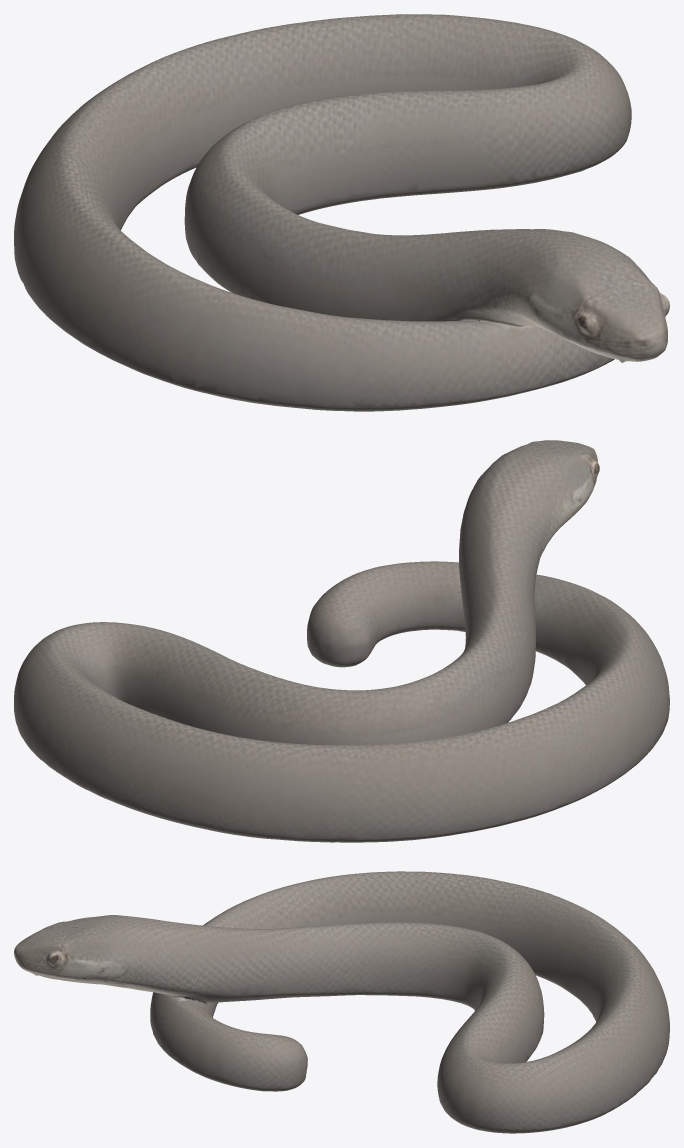
The model's file is snake_slithering.glb.
3 views of the same model, one above another, from view 1: azimuth 30°, elevation 25°; view 2: azimuth 150°, elevation 25°; view 3: azimuth 270°, elevation 25° (orthographic). The views are drawn at different scales.
Parts seen in each view (by area): view 1: model; view 2: model; view 3: model.
Part boxes in pixels (x1,y1,x2,y2): model: (14,14,669,411); model: (14,440,669,842); model: (14,871,669,1133).
Size of the model in its own units: 1.49 by 0.4019 by 1.9.
1 material, 1 textured.
